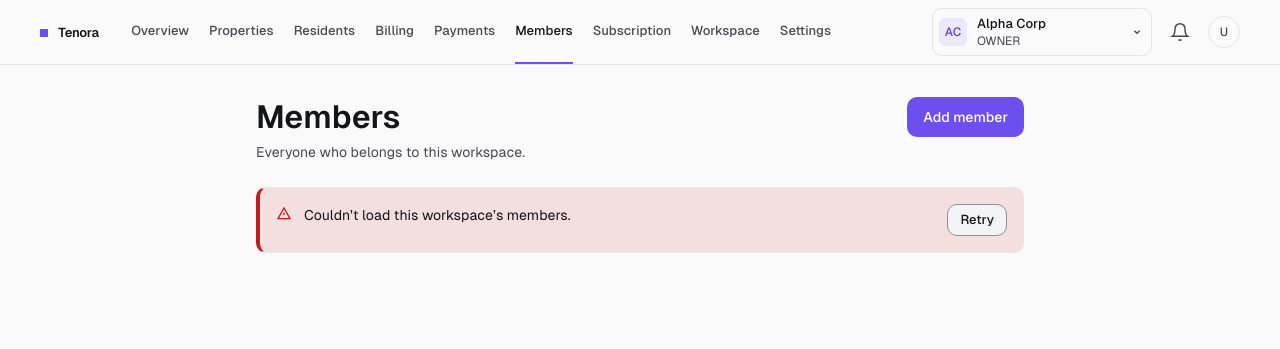
it: MembersPage — list › shows a retry panel on error and recovers
The width and height of the screenshot is (1280, 349).
Click the button "Retry". click: click(977, 220)
box: [947,204,1007,236]
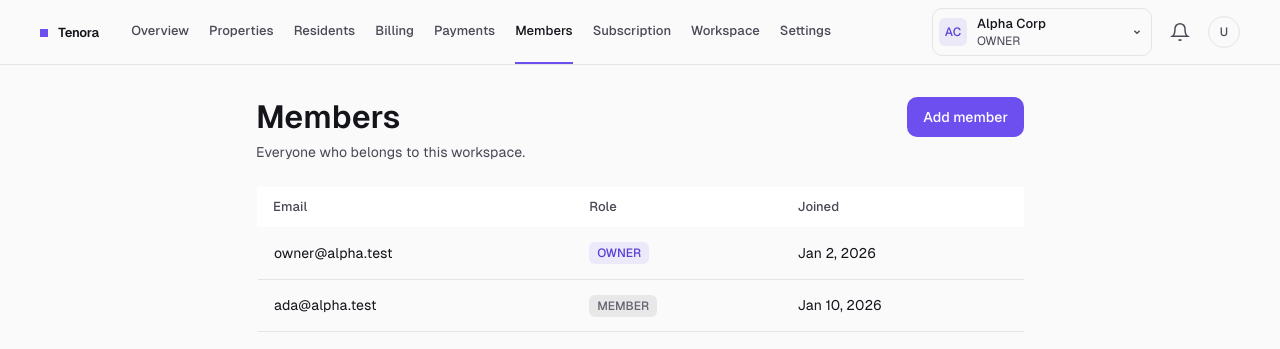
Expected: the text "owner@alpha.test" is shown, [274,245,393,261]
